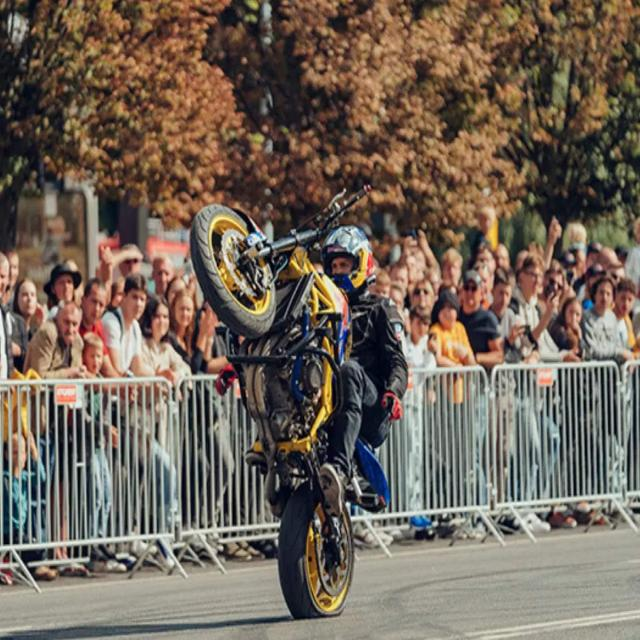Wheeling: (153, 156, 400, 624)
